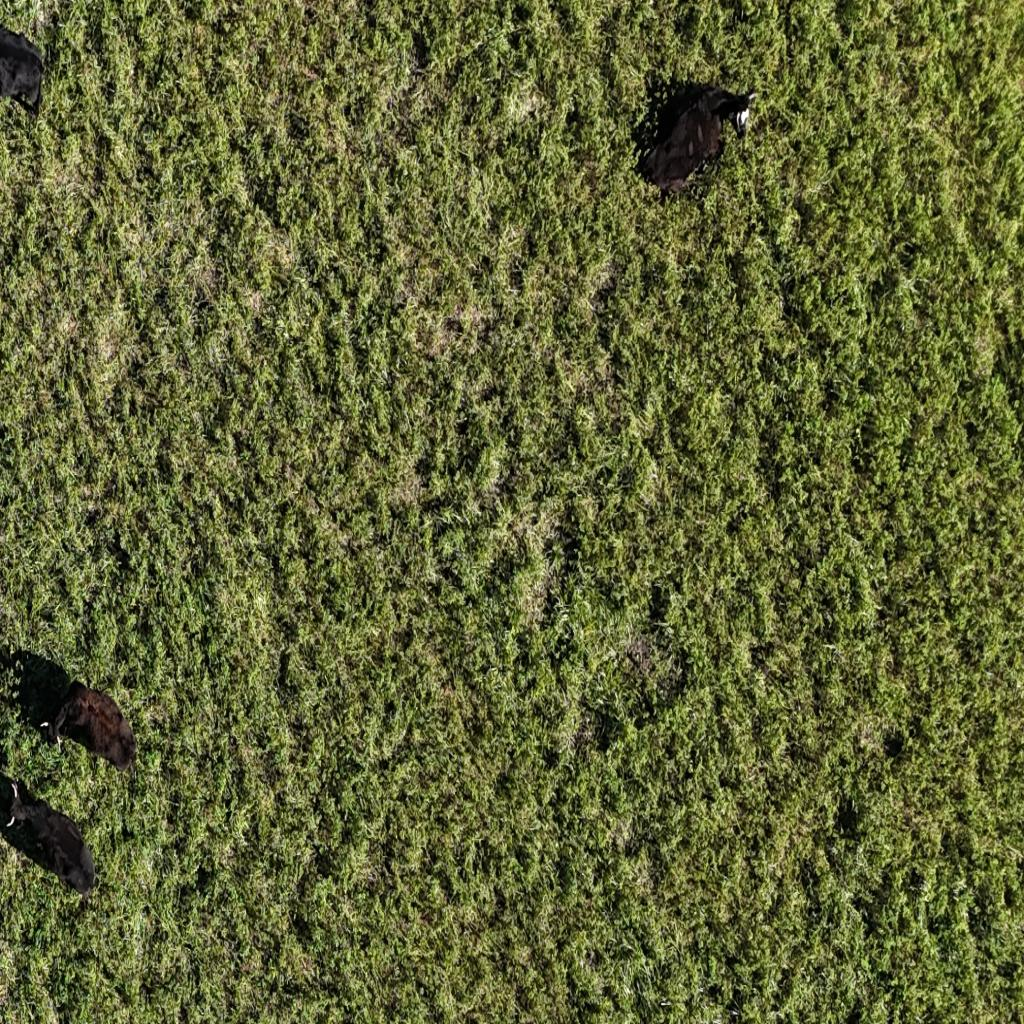cow: (606, 72, 766, 224), (0, 759, 102, 939), (32, 671, 150, 781), (0, 16, 69, 147)
